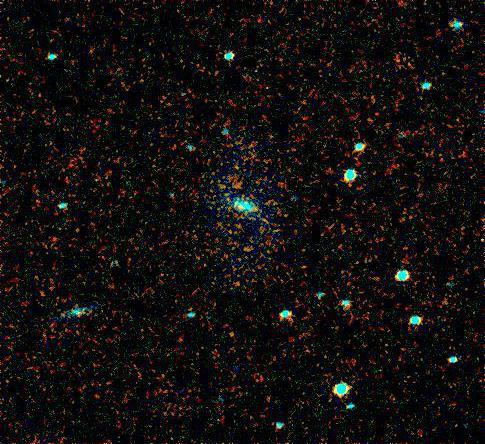star: (220, 148, 250, 178)
